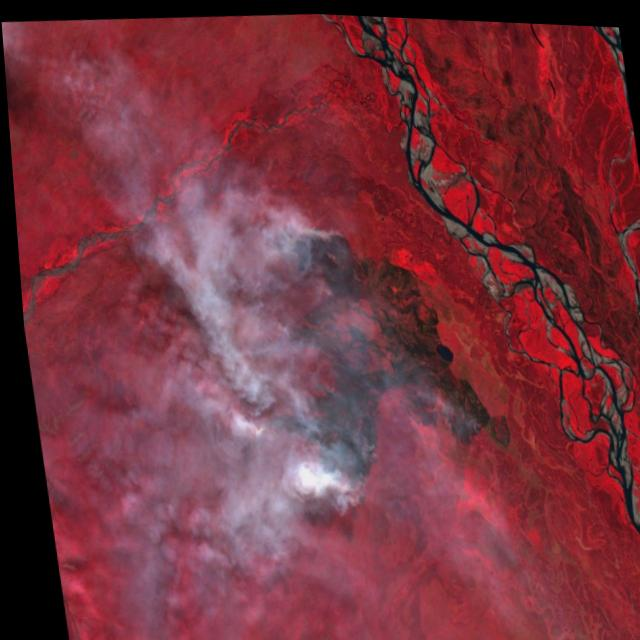fire: (247, 393, 391, 519), (278, 202, 354, 304), (424, 373, 483, 450), (264, 309, 304, 360)
